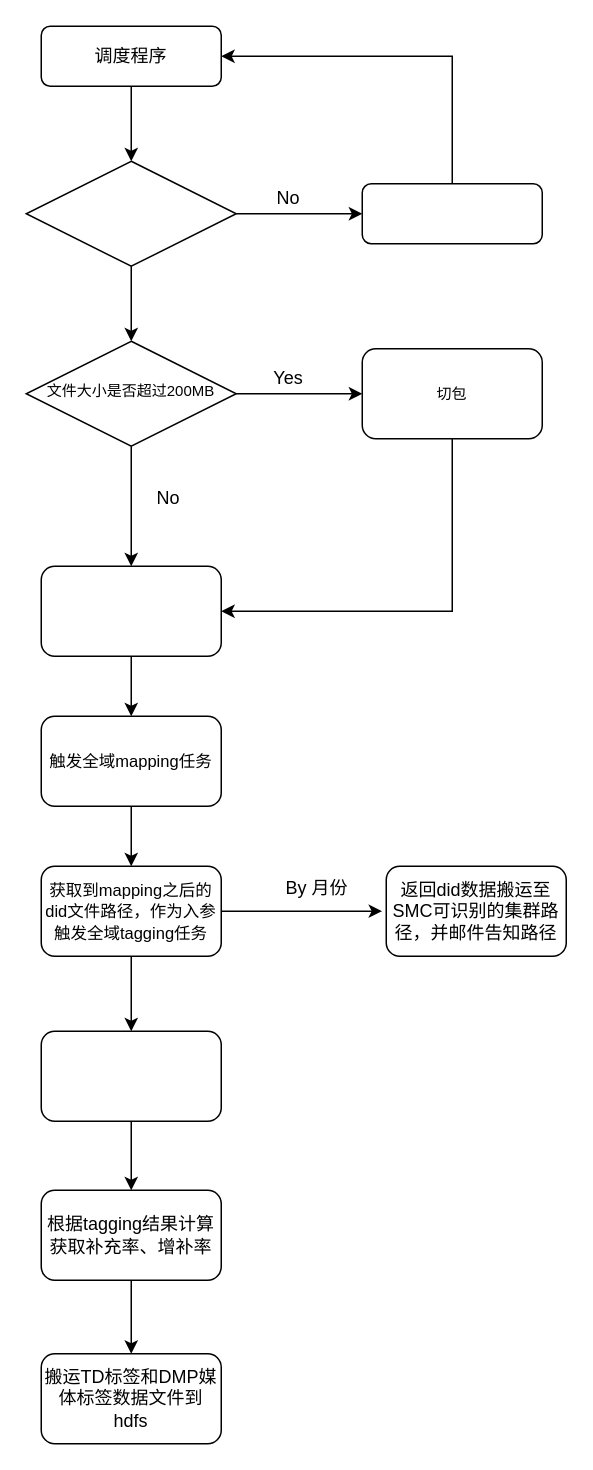
Image size: 593x1470. Some labels were removed from this diagram. The shapes that lost their labels are listed below. From the top down, each one's centre as x and y in pixels, then its label:
At [130,213]: "指定路径 pid 文件是否存在".
At [451,213]: "轮询等待".
At [130,610]: "将pid文件搬运到全域指定的sftp".
At [130,1075]: "回调接口（获取到tagging任务状态）".
